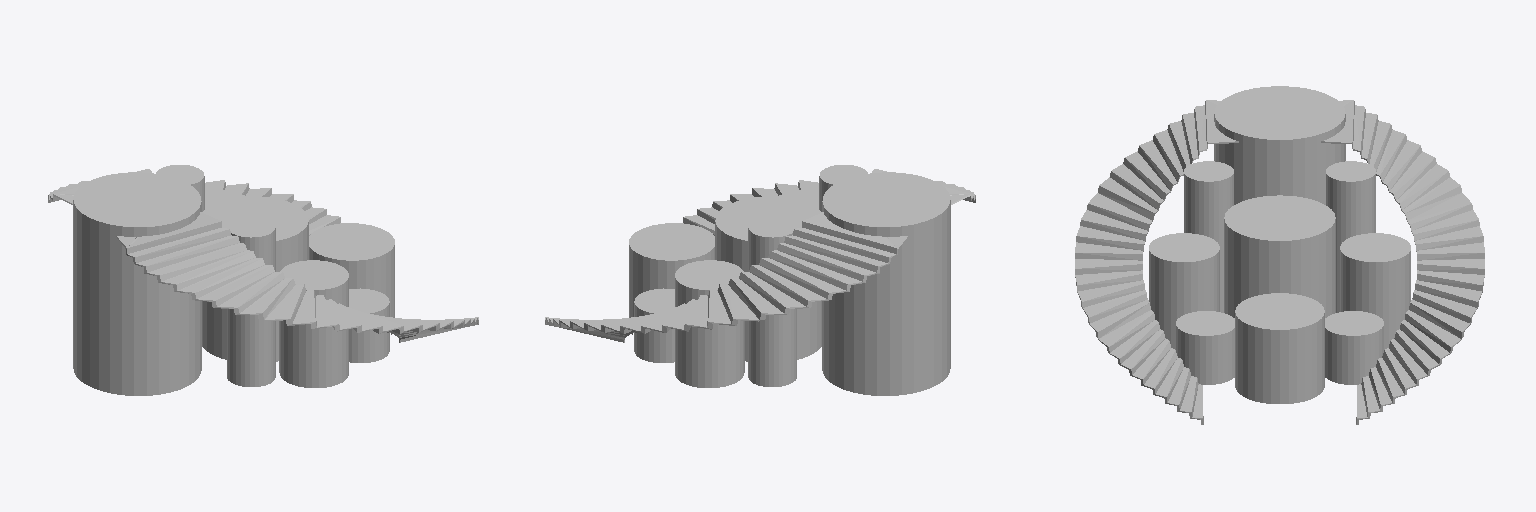
Rendered from stage.obj.
The picture shows the model from 3 angles: view 1: azimuth 30°, elevation 25°; view 2: azimuth 150°, elevation 25°; view 3: azimuth 270°, elevation 25°; orthographic projection.
Visible parts, largest first — view 1: Cylinder, stairs_curved_Cube.002, Cylinder.004, Cylinder.005, Cylinder.001, Cylinder.002, Cylinder.003; view 2: Cylinder, stairs_curved_Cube.002, Cylinder.004, Cylinder.005, Cylinder.001, Cylinder.002, Cylinder.003; view 3: stairs_curved_Cube.002, Cylinder, Cylinder.004, Cylinder.001, Cylinder.002, Cylinder.003, Cylinder.005.
Part boxes in pixels (left/top/right/bottom): Cylinder: left=73, top=172, right=201, bottom=395; stairs_curved_Cube.002: left=48, top=169, right=478, bottom=342; Cylinder.004: left=205, top=190, right=348, bottom=387; Cylinder.005: left=156, top=165, right=275, bottom=386; Cylinder.001: left=202, top=196, right=308, bottom=361; Cylinder.002: left=309, top=223, right=394, bottom=317; Cylinder.003: left=349, top=288, right=389, bottom=362; Cylinder: left=822, top=172, right=950, bottom=395; stairs_curved_Cube.002: left=545, top=169, right=975, bottom=342; Cylinder.004: left=675, top=190, right=818, bottom=387; Cylinder.005: left=748, top=165, right=867, bottom=386; Cylinder.001: left=715, top=196, right=821, bottom=361; Cylinder.002: left=629, top=223, right=714, bottom=317; Cylinder.003: left=634, top=288, right=674, bottom=362; stairs_curved_Cube.002: left=1075, top=100, right=1484, bottom=424; Cylinder: left=1214, top=86, right=1345, bottom=204; Cylinder.004: left=1149, top=233, right=1410, bottom=349; Cylinder.001: left=1224, top=195, right=1335, bottom=317; Cylinder.002: left=1235, top=293, right=1324, bottom=403; Cylinder.003: left=1176, top=311, right=1383, bottom=384; Cylinder.005: left=1184, top=161, right=1375, bottom=312.
Bounding box in the file's own units: 16.07 × 7.51 × 16.44.